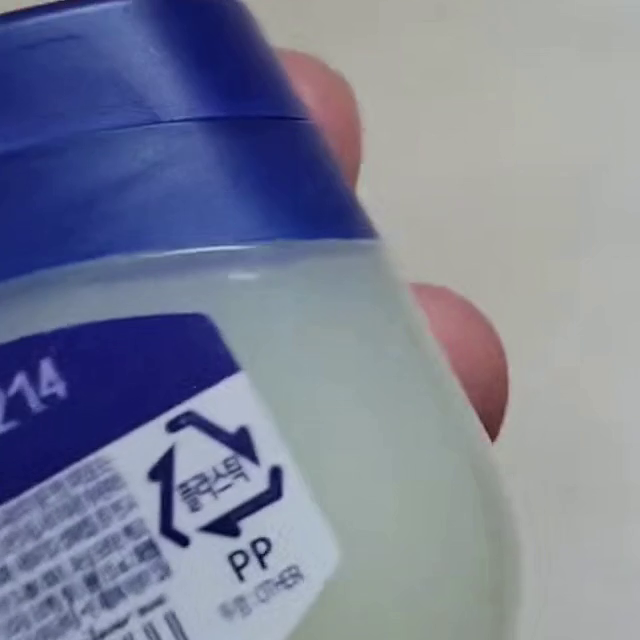Plastic: (145, 409, 284, 550)
